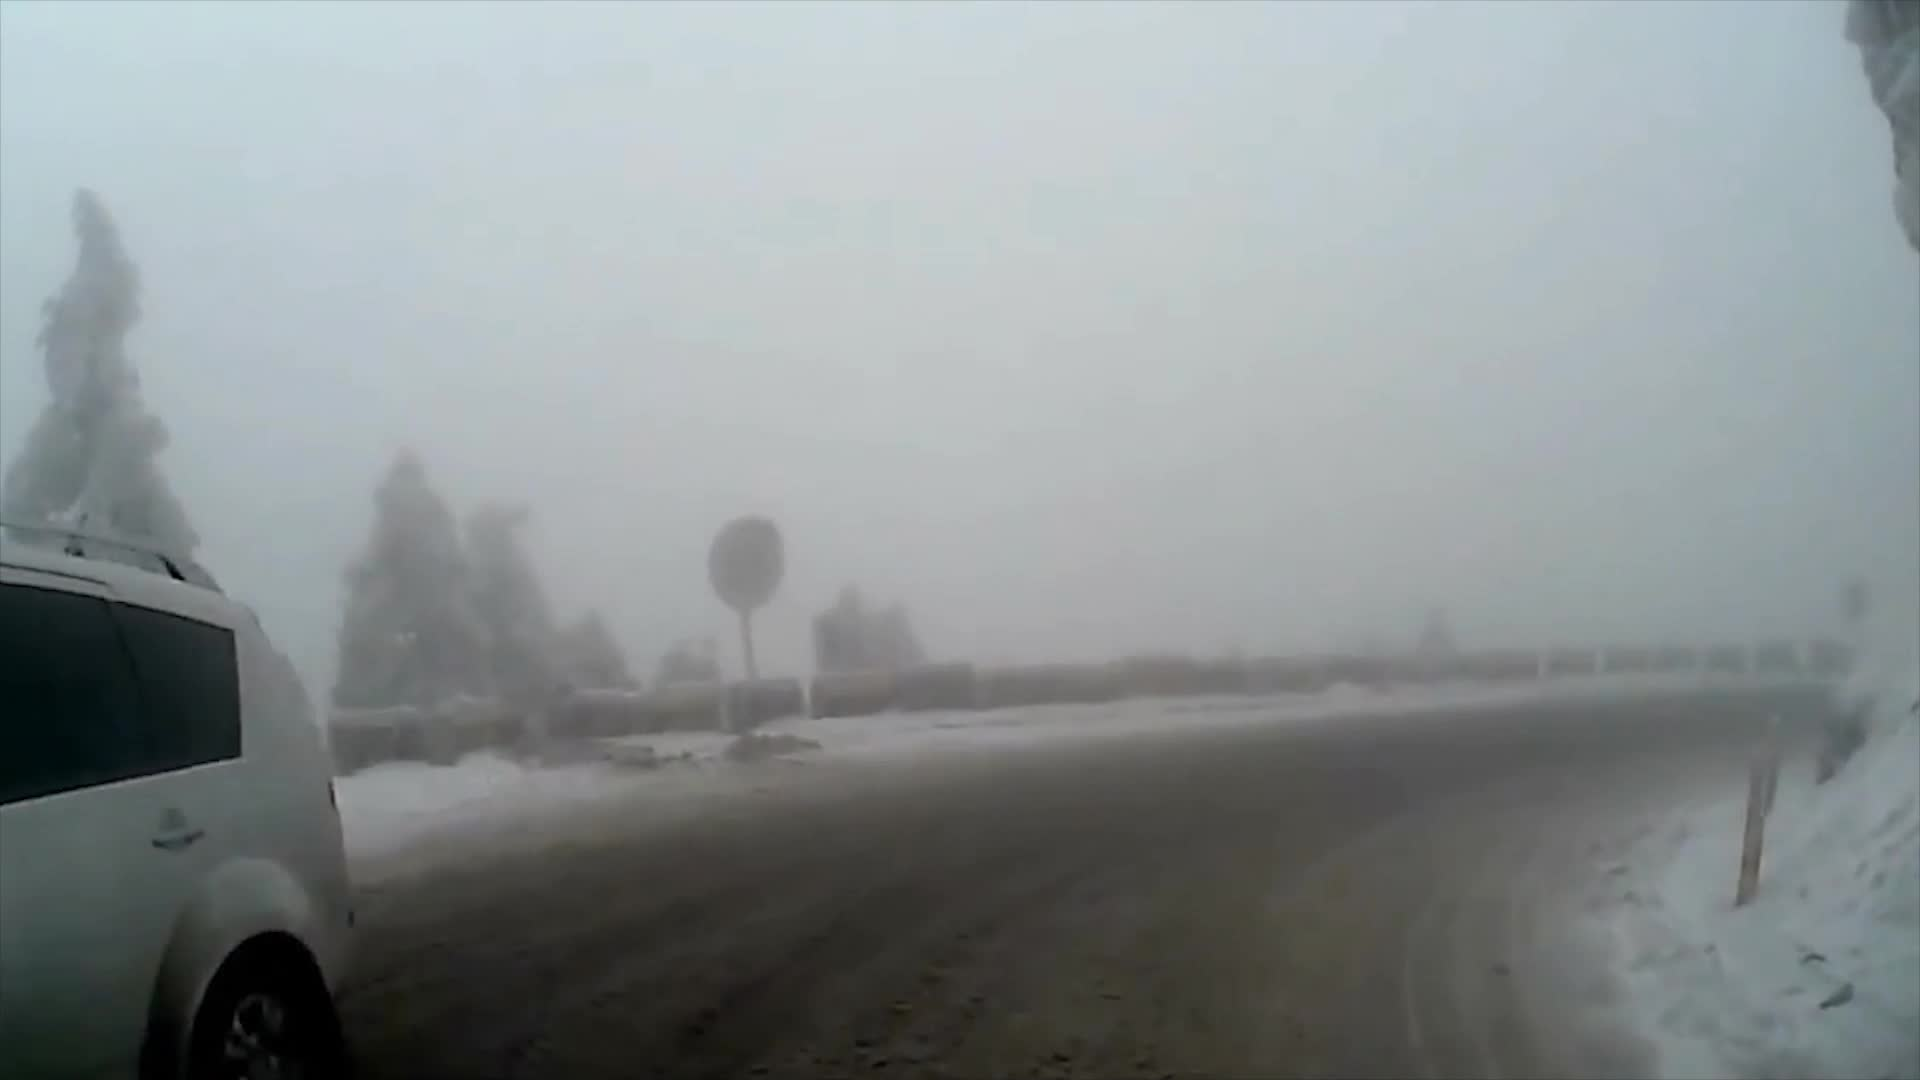vehicle: (0, 516, 357, 1080)
